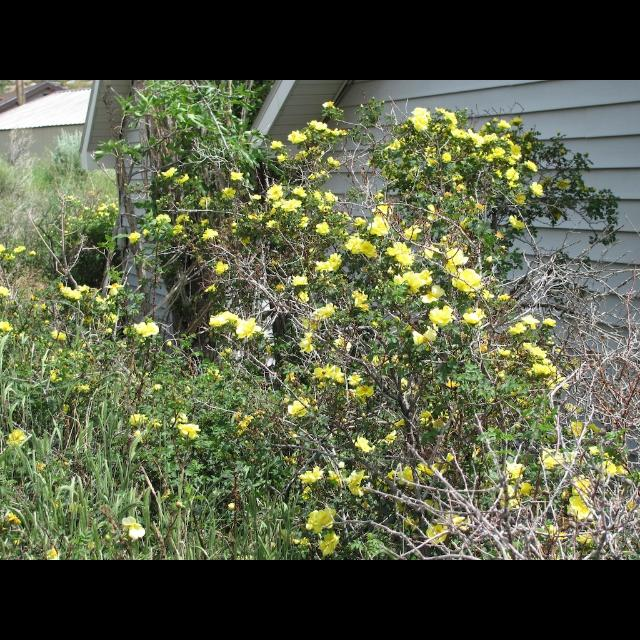Flower: (434, 106, 540, 220), (391, 270, 432, 294), (312, 364, 346, 386), (314, 531, 340, 559), (389, 240, 415, 268), (308, 505, 338, 529), (313, 252, 349, 272), (452, 268, 482, 292), (345, 235, 375, 258), (406, 106, 432, 130), (427, 302, 458, 322), (298, 462, 326, 482), (235, 318, 262, 338), (289, 398, 317, 417), (178, 421, 206, 439), (411, 329, 441, 343), (368, 214, 390, 233), (308, 304, 334, 320), (124, 514, 142, 536), (280, 196, 304, 212), (524, 340, 548, 356), (530, 362, 554, 376), (200, 223, 218, 240), (519, 311, 537, 327), (210, 310, 233, 322), (134, 324, 160, 334), (314, 217, 334, 230), (64, 286, 78, 302), (288, 132, 310, 142), (266, 186, 284, 198), (288, 274, 308, 284), (311, 119, 325, 131), (180, 176, 188, 188), (229, 171, 241, 179), (165, 169, 177, 175)
